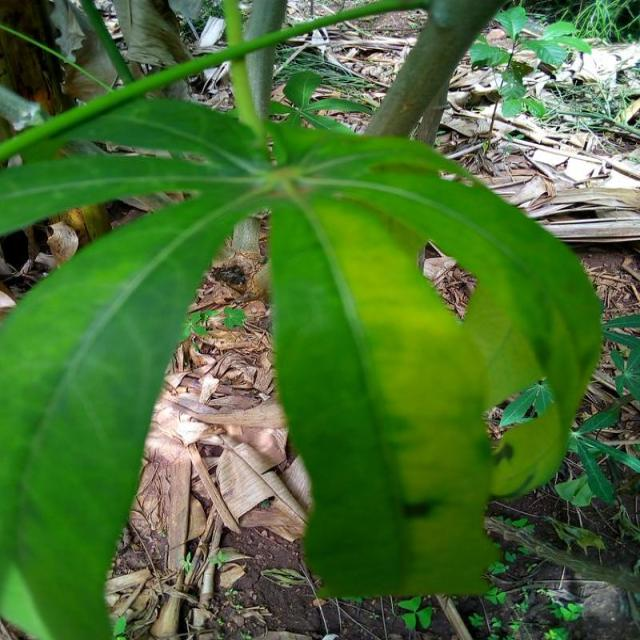cassava leaf: (1, 82, 604, 636), (266, 120, 602, 600)
